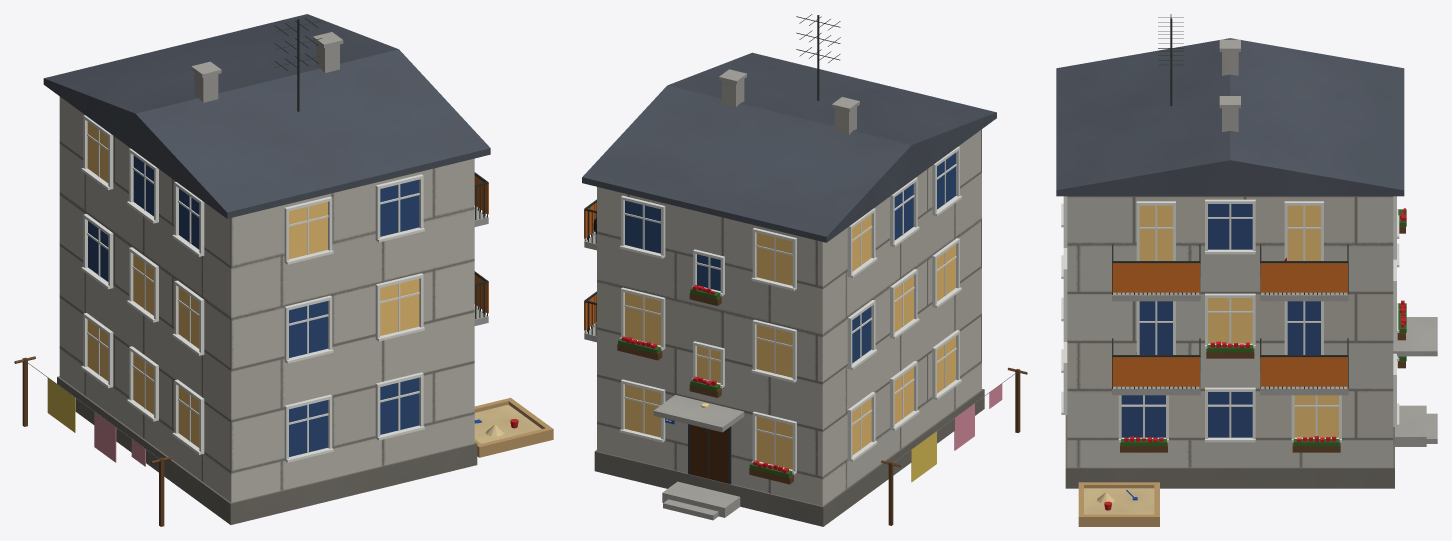
File: dum_02_bytovky.glb
The picture shows the model from 3 angles, left to right: view 1: azimuth 30°, elevation 25°; view 2: azimuth 150°, elevation 25°; view 3: azimuth 270°, elevation 25°; orthographic projection. The views are drawn at different scales.
Visible parts, largest first — view 1: dum, noc; view 2: dum, noc; view 3: dum, noc.
Boxes of the visible parts, x1,y1,x2,y2 form: dum: (14,14,553,526); noc: (87,122,419,447); dum: (582,14,1027,526); noc: (625,214,955,469); dum: (1056,14,1437,526); noc: (1139,205,1406,437).
Bounding box in the file's own units: 11.58 × 12.27 × 10.27.
1 material, 1 textured.
